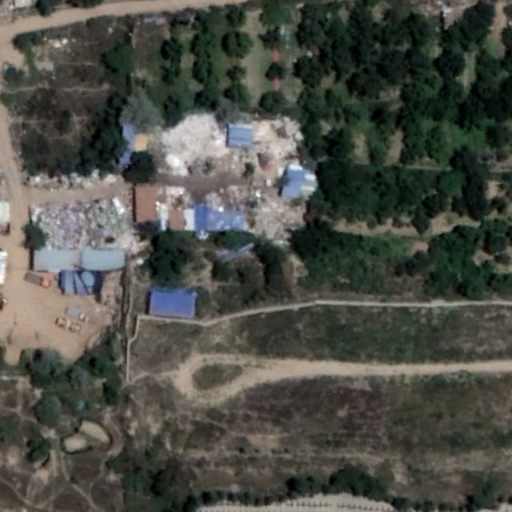msw: (33, 197, 129, 250), (28, 171, 118, 189)
